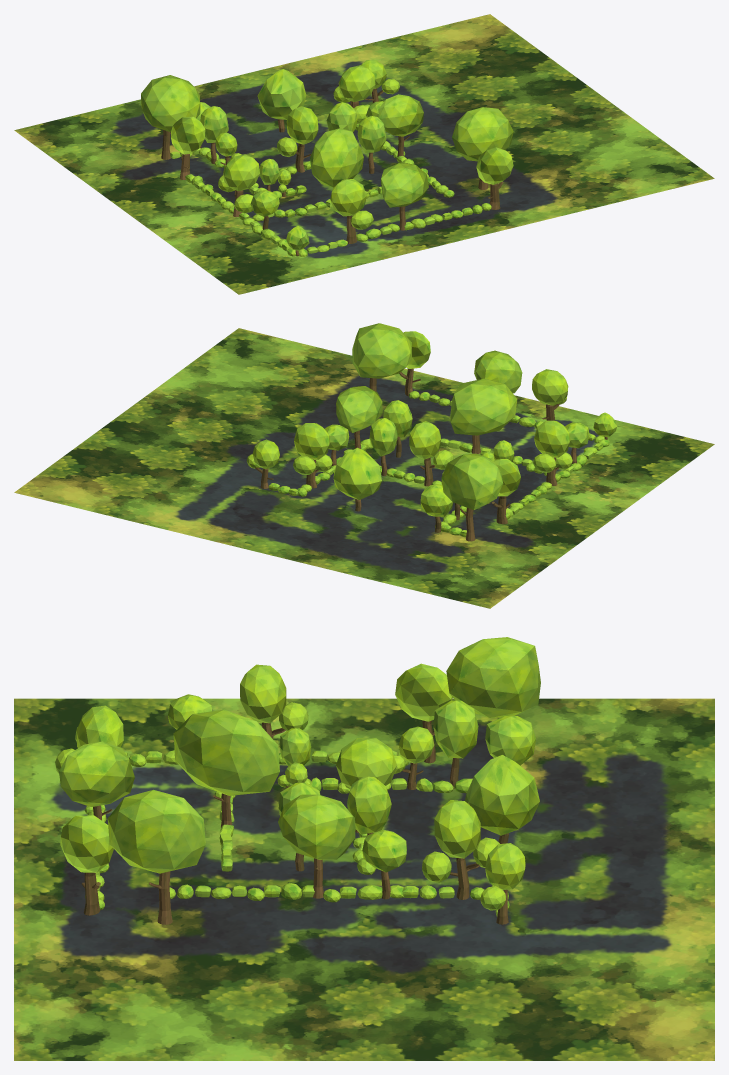
Rendered from EScenarioParque.fbx.
3 renders of one model, top to bottom at view 1: azimuth 30°, elevation 25°; view 2: azimuth 150°, elevation 25°; view 3: azimuth 270°, elevation 25°, orthographic. The views are drawn at different scales.
Visible parts, largest first — view 1: Plane001, arbol02, arbol018, arbol006, arbol022, arbol015, arbol016, arbol023, arbol012, arbol01, arbol019, arbol017 (+9 smaller); view 2: Plane001, arbol006, arbol02, arbol018, arbol015, arbol016, arbol012, arbol019, arbol01, arbol022, arbol023, arbol011 (+7 smaller); view 3: Plane001, arbol006, arbol018, arbol02, arbol016, arbol015, arbol022, arbol019, arbol017, arbol012, arbol011, arbol004 (+10 smaller).
Boxes of the visible parts, x1,y1,x2,y2 form: Plane001: [14, 14, 714, 294]; arbol02: [141, 75, 200, 159]; arbol018: [452, 107, 513, 189]; arbol006: [310, 128, 363, 187]; arbol022: [381, 163, 428, 230]; arbol015: [257, 69, 306, 132]; arbol016: [378, 94, 423, 156]; arbol023: [330, 179, 373, 243]; arbol012: [218, 154, 259, 216]; arbol01: [277, 106, 318, 172]; arbol019: [333, 65, 375, 123]; arbol017: [476, 147, 513, 209]; Plane001: [14, 328, 714, 608]; arbol006: [450, 378, 517, 453]; arbol02: [441, 453, 503, 541]; arbol018: [352, 323, 411, 391]; arbol015: [333, 447, 381, 511]; arbol016: [336, 386, 382, 448]; arbol012: [533, 420, 572, 485]; arbol019: [293, 423, 332, 488]; arbol01: [409, 421, 453, 486]; arbol022: [474, 350, 522, 393]; arbol023: [532, 369, 568, 420]; arbol011: [491, 459, 520, 524]; Plane001: [14, 698, 714, 1060]; arbol006: [173, 709, 279, 827]; arbol018: [107, 789, 205, 924]; arbol02: [446, 637, 540, 717]; arbol016: [278, 794, 355, 898]; arbol015: [465, 755, 539, 843]; arbol022: [59, 741, 134, 820]; arbol019: [422, 800, 499, 899]; arbol017: [60, 815, 113, 915]; arbol012: [240, 664, 308, 739]; arbol011: [395, 663, 452, 763]; arbol004: [433, 700, 478, 788].
Bounding box in the file's own units: 8476 × 1399 × 6933.
